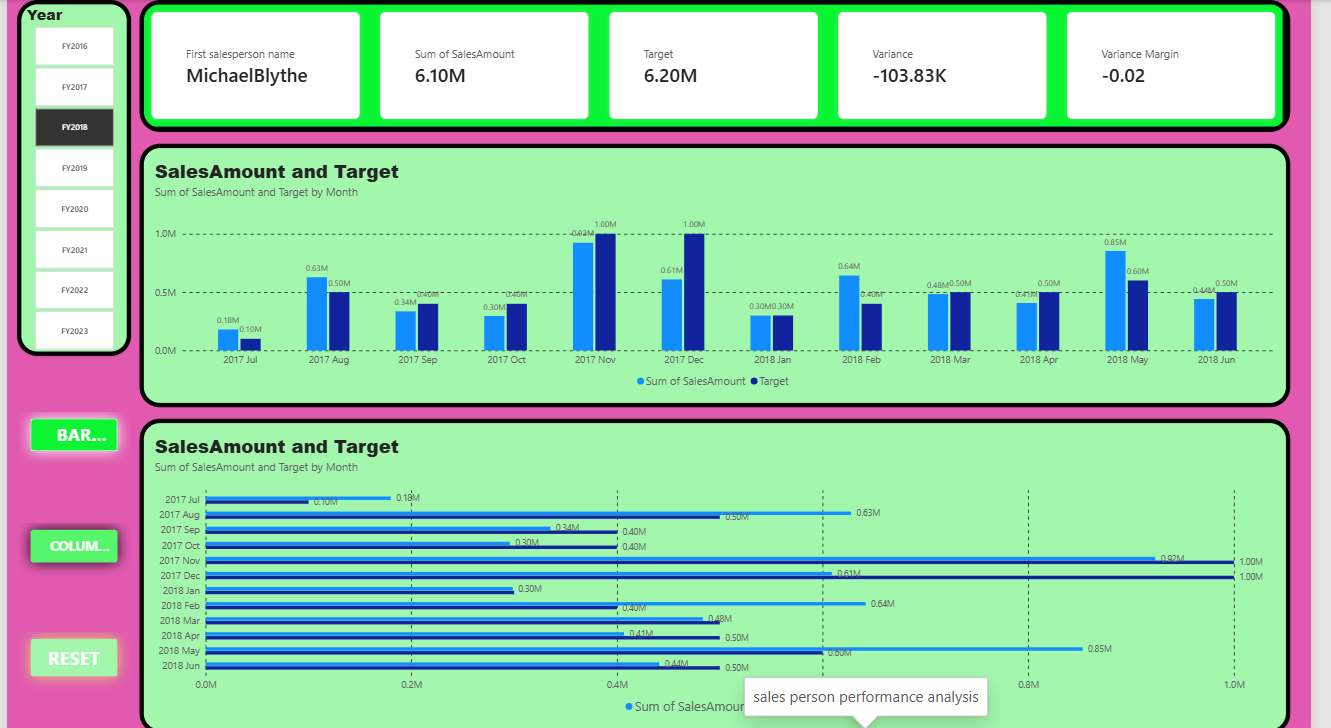

The page's visual inventory and layout, read from the dashboard file:
{"tool":"powerbi","page":{"name":"sales person performance analysis","canvas":[1920,1080],"ordinal":6},"visuals":[{"type":"slicer","fields":{"Values":["Date.Year"]},"box":[14,0,168,524],"z":0},{"type":"cardVisual","fields":{"Data":["Min(sales person performance.salesperson name)","Sum(Sales.SalesAmount)","Targets.Target","Targets.Variance","Targets.Variance Margin"]},"box":[196,0,1694,194],"z":1000},{"type":"clusteredColumnChart","title":"SalesAmount and Target","fields":{"Category":["Date.Month"],"Y":["Sum(Sales.SalesAmount)","Targets.Target"]},"box":[196,212,1694,388],"z":2000},{"type":"clusteredBarChart","title":"SalesAmount and Target","fields":{"Category":["Date.Month"],"Y":["Sum(Sales.SalesAmount)","Targets.Target"]},"box":[196,616,1694,464],"z":3000},{"type":"actionButton","box":[14,596,168,88],"z":4000},{"type":"actionButton","box":[14,920,168,96],"z":5000},{"type":"actionButton","box":[14,760,168,88],"z":6000}]}

Visuals, with their boxes in screenshot pixels (x1, y1, x2, y2), scaled from the page's 1920x1080 canvas onto the 1331x728 screenshot:
slicer - Date.Year: region(10, 0, 126, 353)
cardVisual - Min(sales person performance.salesperson name) x Sum(Sales.SalesAmount): region(136, 0, 1310, 131)
"SalesAmount and Target" clusteredColumnChart: region(136, 143, 1310, 404)
"SalesAmount and Target" clusteredBarChart: region(136, 415, 1310, 727)
actionButton: region(10, 402, 126, 461)
actionButton: region(10, 620, 126, 685)
actionButton: region(10, 512, 126, 572)
